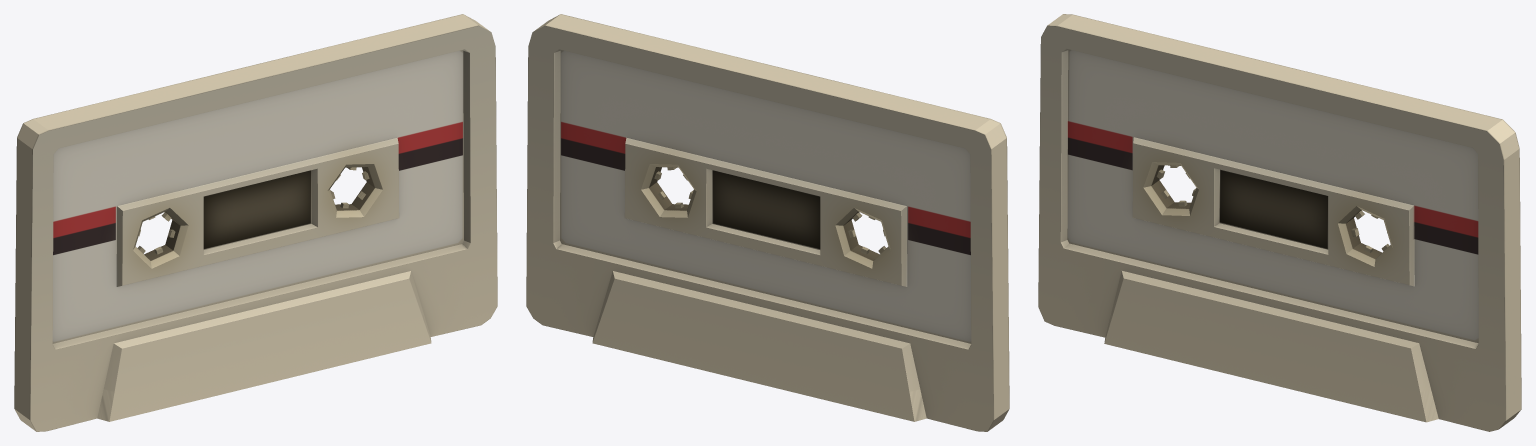
File: tape.glb
3 views of the same model, side by side, from view 1: azimuth 30°, elevation 25°; view 2: azimuth 150°, elevation 25°; view 3: azimuth 330°, elevation 25° (orthographic).
Visible parts, largest first — view 1: CasseteTape; view 2: CasseteTape; view 3: CasseteTape.
Part boxes in pixels (x1,y1,x2,y2): CasseteTape: (14,14,497,431); CasseteTape: (526,14,1009,431); CasseteTape: (1038,14,1521,431).
Bounding box in the file's own units: 8.82 × 5.42 × 0.9499.
1 material, 1 textured.
